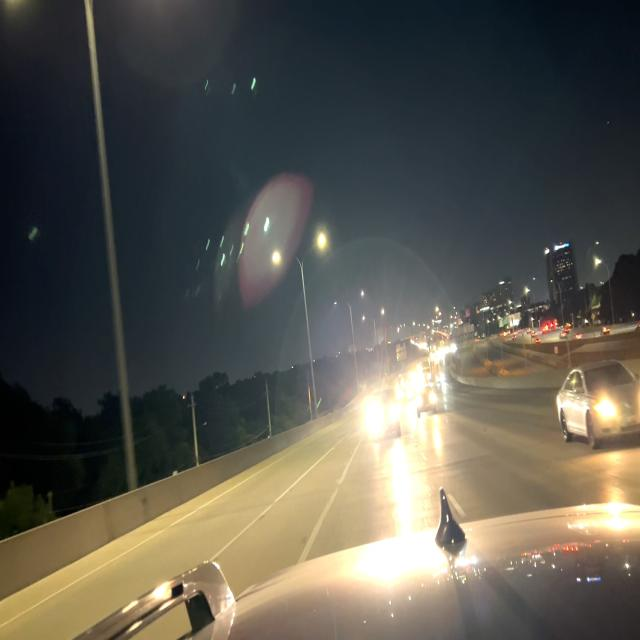back-of-sign: (452, 321, 476, 348), (395, 339, 408, 364)
